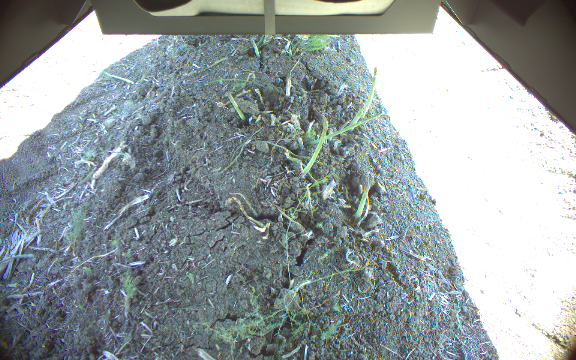aspa: (299, 114, 328, 178), (360, 65, 377, 120), (224, 89, 247, 121), (353, 182, 370, 224), (345, 109, 362, 135), (247, 38, 261, 59)
